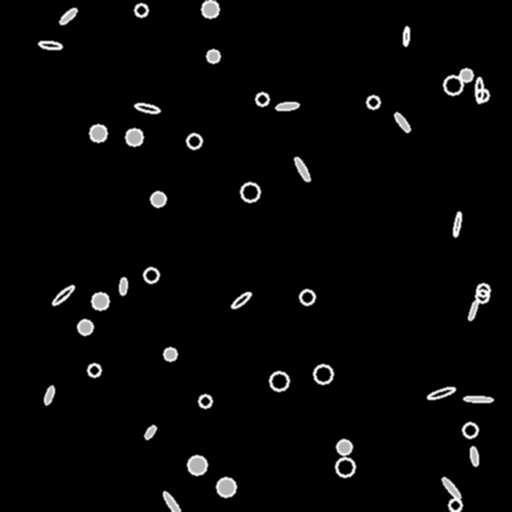pseudomonas: (51, 284, 75, 306), (440, 476, 462, 500), (161, 490, 183, 512), (426, 385, 456, 401), (293, 156, 311, 182), (230, 290, 252, 310), (393, 111, 411, 133), (59, 7, 77, 25), (135, 102, 159, 114), (43, 385, 55, 405), (452, 212, 462, 236), (467, 300, 479, 320), (143, 424, 157, 440), (39, 40, 61, 50), (276, 101, 298, 111), (476, 78, 483, 102), (464, 396, 492, 402), (119, 277, 127, 295), (470, 447, 478, 465), (403, 27, 409, 45)
synechocystis: (217, 478, 235, 496), (270, 372, 288, 390), (444, 76, 462, 94), (314, 365, 332, 383), (188, 456, 206, 474), (336, 458, 354, 476), (241, 183, 259, 201), (202, 1, 218, 17), (126, 129, 142, 145), (92, 293, 108, 309), (90, 125, 106, 141), (187, 134, 201, 148), (78, 320, 92, 334), (463, 423, 477, 437), (144, 268, 158, 282), (300, 290, 314, 304), (151, 192, 165, 206), (337, 440, 351, 454), (367, 96, 379, 108), (88, 364, 100, 376), (476, 89, 488, 101), (199, 395, 211, 407), (256, 93, 268, 105), (135, 4, 147, 16), (476, 290, 488, 302), (207, 50, 219, 62), (460, 69, 472, 81), (477, 284, 489, 296), (164, 348, 176, 360), (449, 499, 461, 511)
